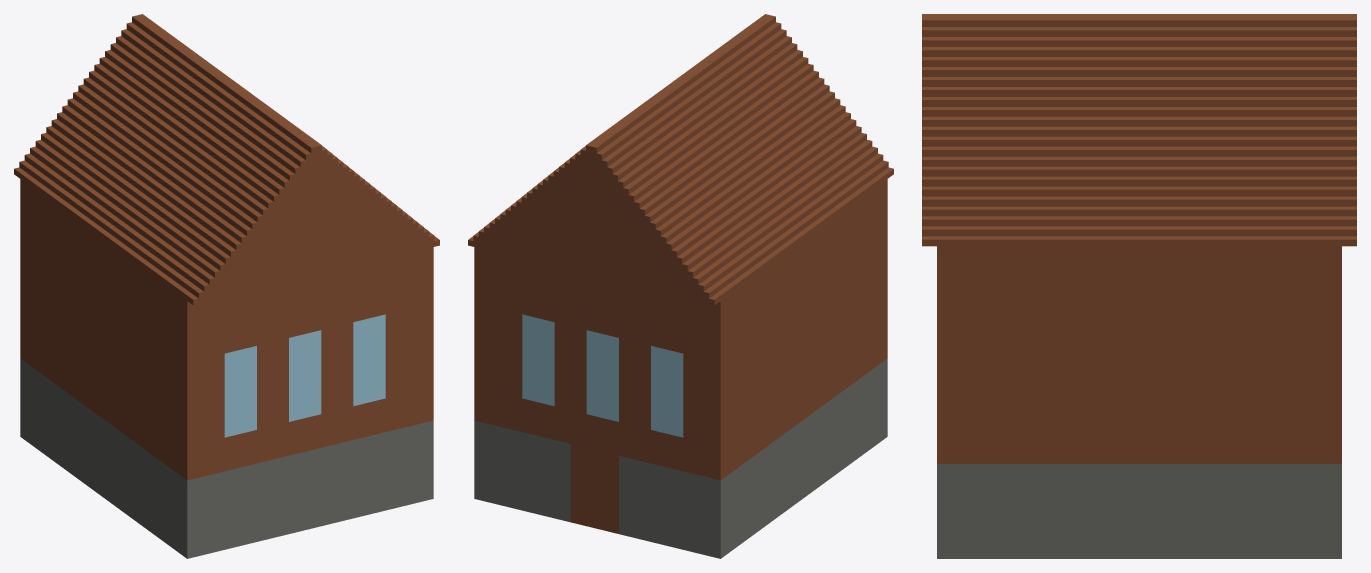
The model's file is chalet.obj.
3 renders of one model, left to right at view 1: azimuth 30°, elevation 25°; view 2: azimuth 150°, elevation 25°; view 3: azimuth 270°, elevation 25°, orthographic. The views are drawn at different scales.
Bounding box in the file's own units: 4.6 × 6.9 × 5.8.
Materials: 1 (1 with a texture image).
